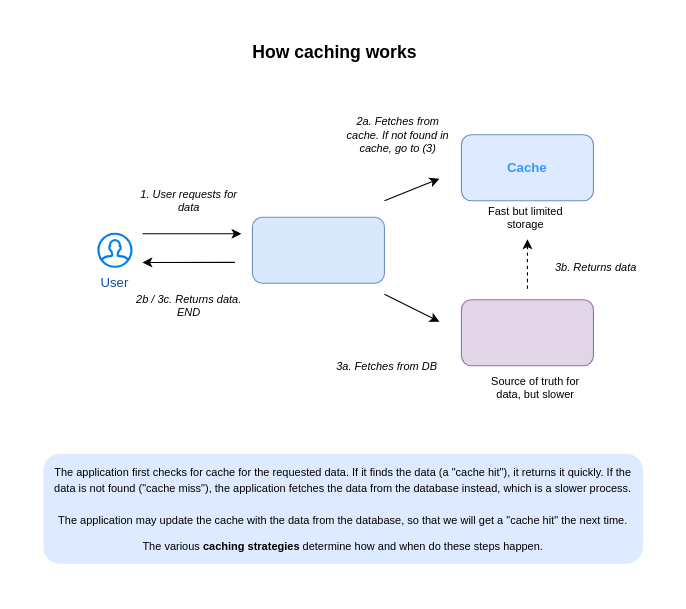
The diagram is 686 pixels wide and 609 high, and some of its shapes have lost their labels. Each missing label, with the centre of its shape:
Application: [317,249]
Database: [526,332]
